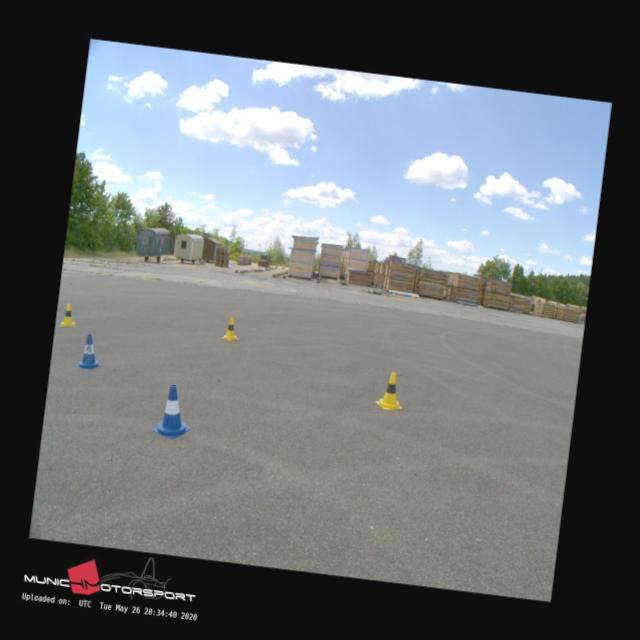blue_cone: (153, 382, 195, 440), (74, 332, 102, 369)
yellow_cone: (374, 370, 406, 410), (220, 316, 240, 340), (59, 302, 77, 326)
